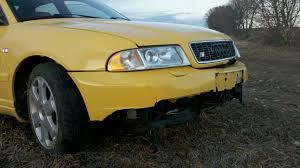front-bumper-dent: (102, 70, 249, 136)
